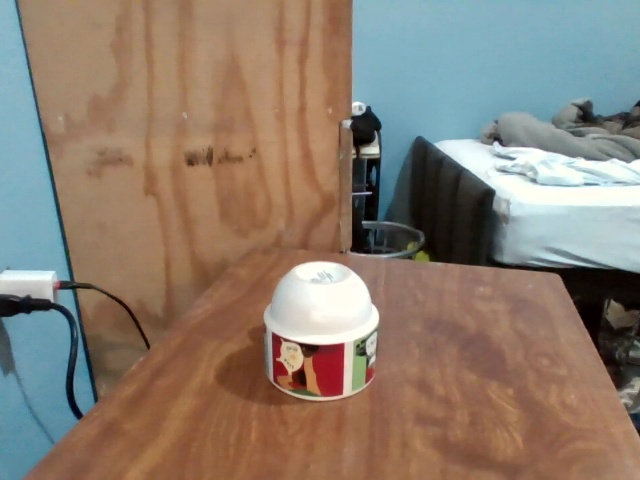taza: (264, 260, 380, 400)
